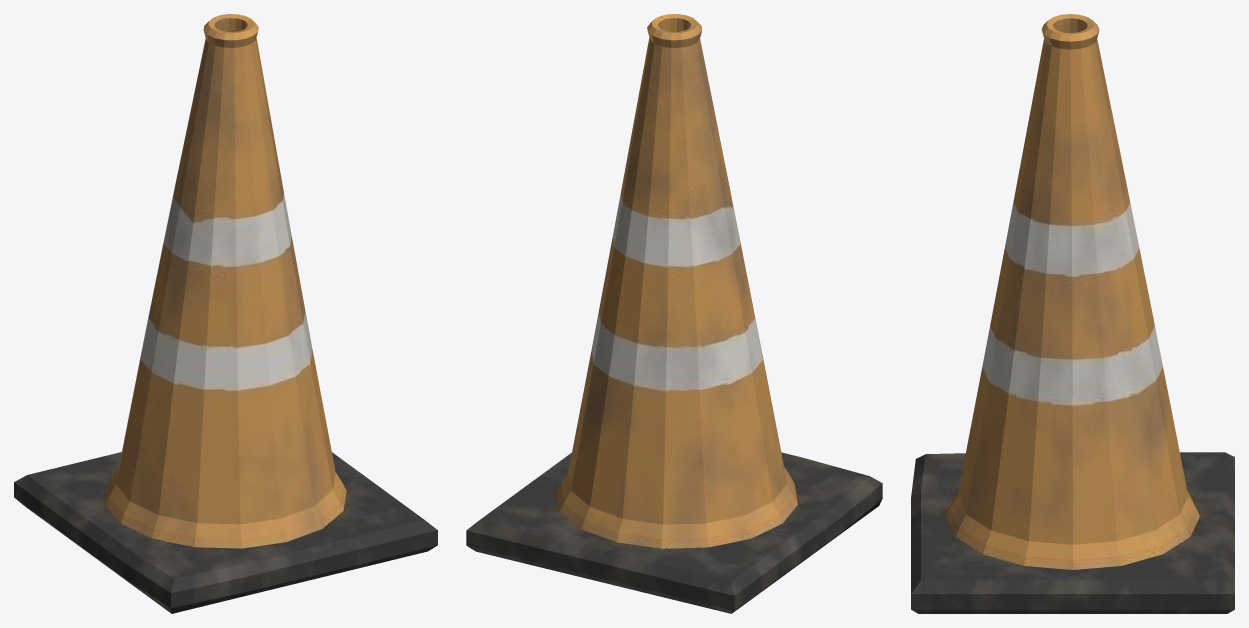
The model's file is CS05_traffic_cones_v1.glb.
3 renders of one model, left to right at view 1: azimuth 30°, elevation 25°; view 2: azimuth 150°, elevation 25°; view 3: azimuth 270°, elevation 25°, orthographic. The views are drawn at different scales.
Parts seen in each view (by area): view 1: Striped road cone; view 2: Striped road cone; view 3: Striped road cone.
Part boxes in pixels (x1,y1,x2,y2): Striped road cone: (14,14,437,613); Striped road cone: (466,14,882,613); Striped road cone: (911,14,1234,613).
Bounding box in the file's own units: 0.39 × 0.7 × 0.39.
3 materials, 3 textured.
